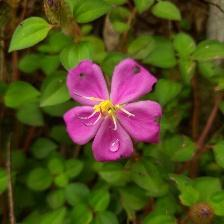malabar melastome: (62, 56, 167, 165)
